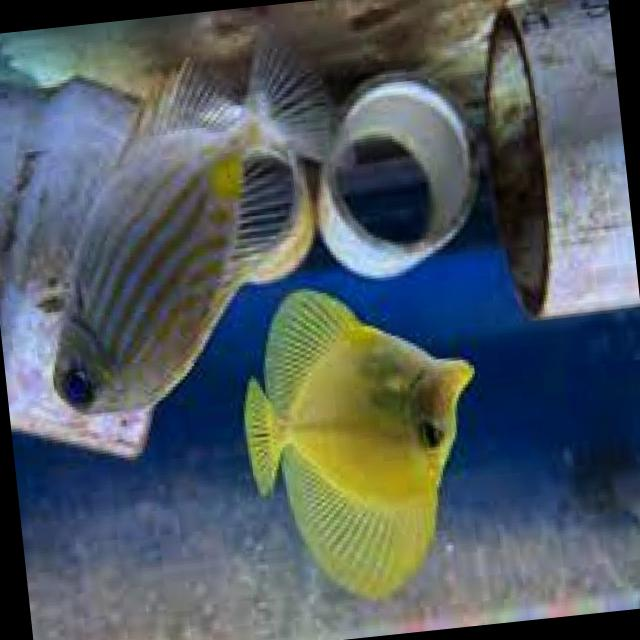YellowTang: (210, 266, 510, 632)
